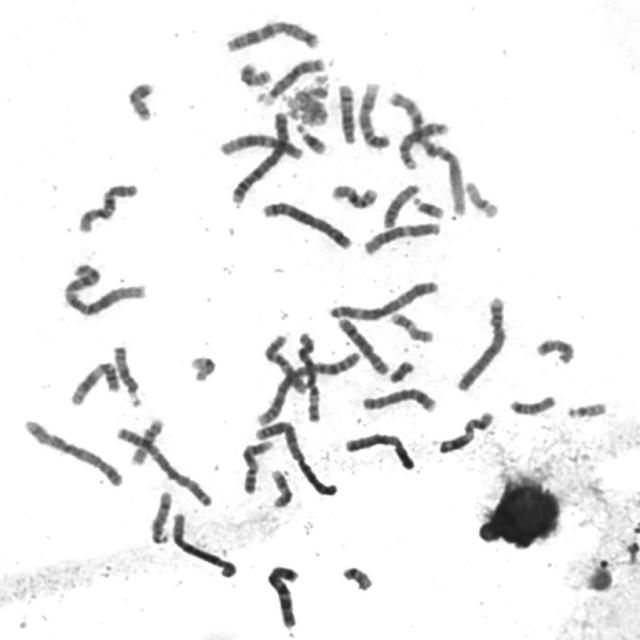A1: (384, 86, 468, 218), (58, 258, 149, 318)
A2: (253, 348, 362, 427), (251, 417, 340, 499)
A3: (111, 422, 214, 508), (324, 276, 442, 322)
B4: (226, 107, 291, 206), (451, 291, 509, 393)
B5: (19, 415, 126, 489), (257, 197, 354, 251)
C10: (73, 178, 141, 235), (259, 331, 309, 395)
C11: (434, 407, 496, 455), (65, 358, 121, 407)
C12: (359, 218, 443, 257), (215, 129, 306, 161)
C6: (167, 508, 239, 580), (293, 329, 323, 426)
C7: (221, 16, 321, 53), (262, 561, 302, 631)
C8: (333, 314, 391, 377), (357, 384, 439, 414)
C9: (354, 78, 392, 150), (237, 436, 276, 496)
D13: (255, 52, 328, 106), (394, 118, 452, 171)
D14: (334, 80, 359, 146), (146, 487, 174, 545)
D15: (109, 340, 144, 410), (378, 179, 422, 230)
E16: (126, 414, 166, 467), (327, 179, 380, 210)
E17: (385, 308, 436, 344), (266, 466, 294, 509)
E18: (532, 333, 577, 366), (505, 391, 558, 417)
F19: (461, 177, 501, 220), (186, 351, 218, 383)
F20: (123, 76, 157, 123), (235, 58, 274, 88)
G21: (291, 120, 329, 156), (408, 192, 446, 220)
G22: (334, 562, 376, 596), (562, 397, 610, 421)
X: (340, 429, 416, 472)
Y: (378, 358, 422, 386)
